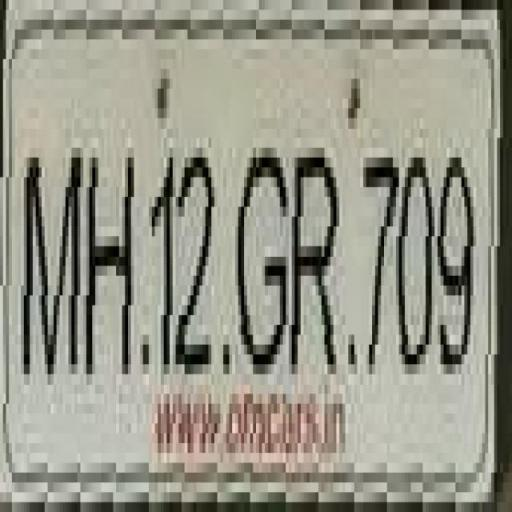number plate: (0, 20, 491, 482)
